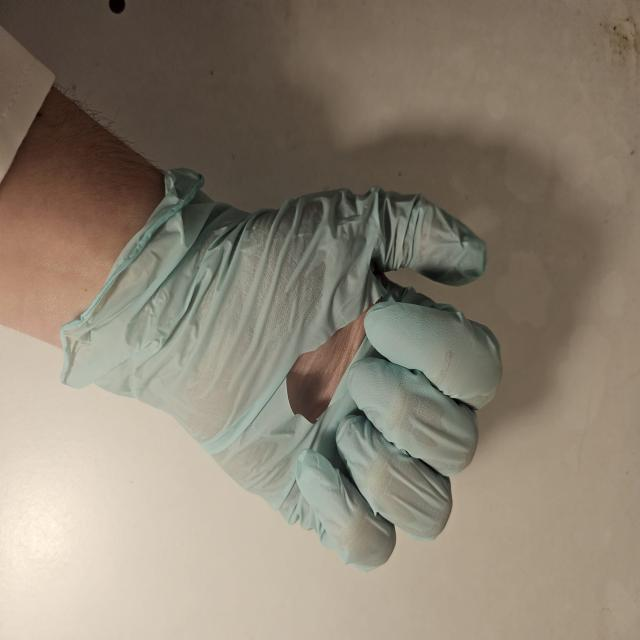gloves_damaged: (56, 164, 508, 566)
